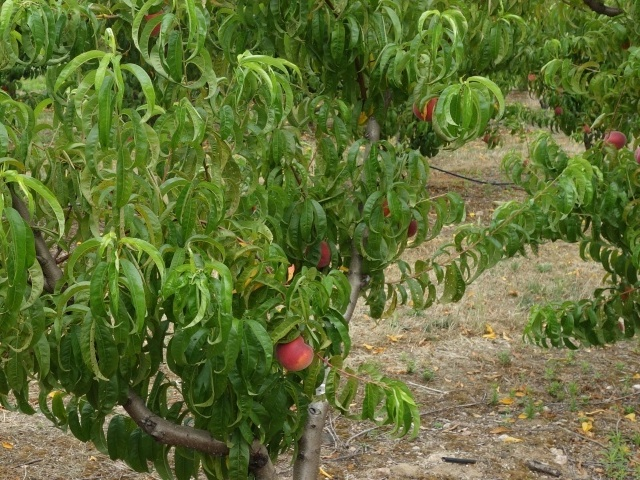peach: (274, 331, 321, 376), (411, 92, 446, 125), (305, 240, 335, 270), (600, 126, 628, 155), (399, 216, 421, 242)
